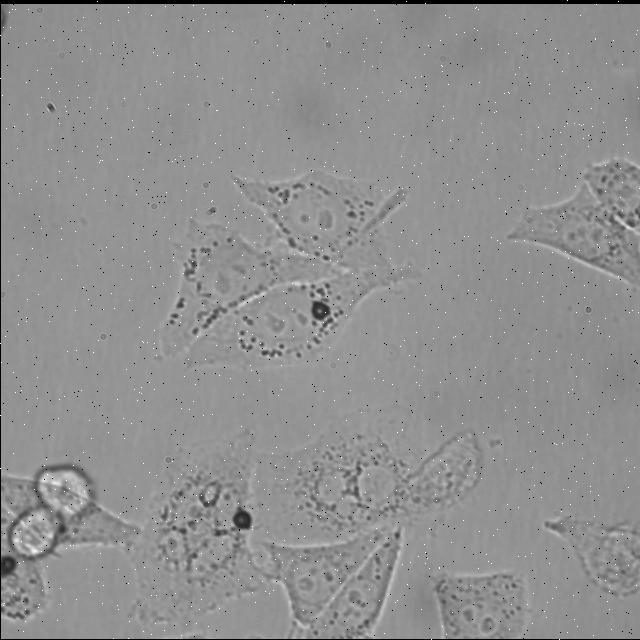microbeads: (308, 296, 330, 322)
